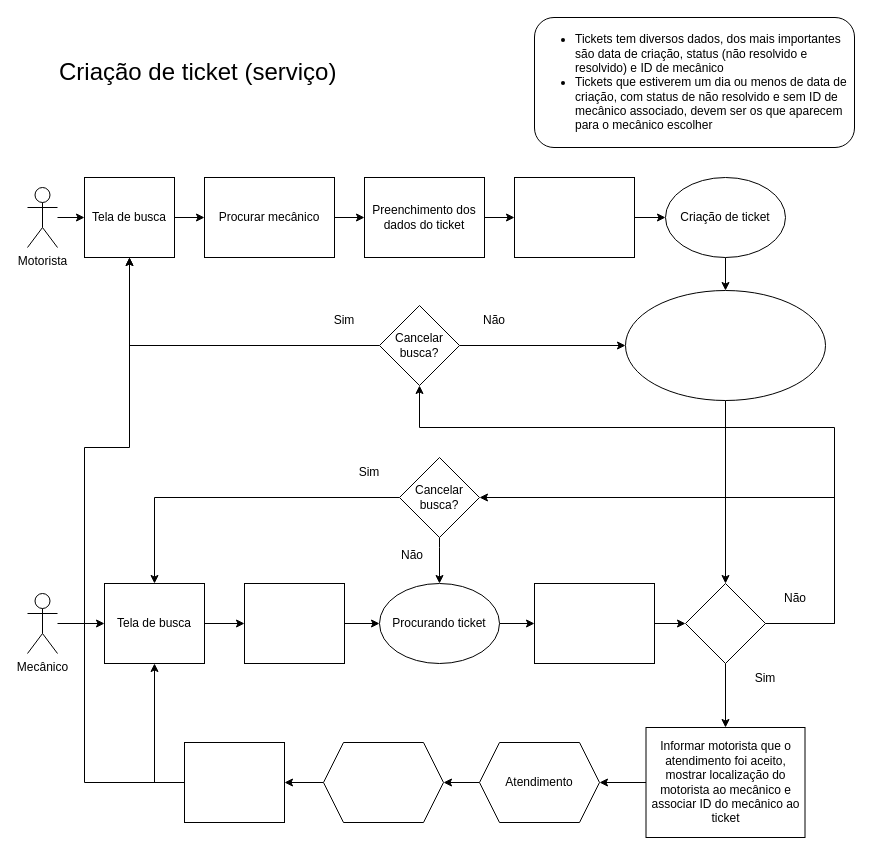
Image size: 872x855. Some labels were removed from this diagram. Each missing label, with the box of its shape:
Aceitar ticket?: (684, 582, 766, 664)
Aguardar até que um mecânico aceite atender o ticket: (624, 290, 826, 400)
Analisar detalhes do ticket: (534, 582, 654, 664)
Avaliação do ticket: (184, 742, 284, 822)
Chamar mecânico: (514, 176, 634, 258)
Pagamento: (322, 742, 444, 822)
Procurar serviço: (244, 582, 344, 664)
